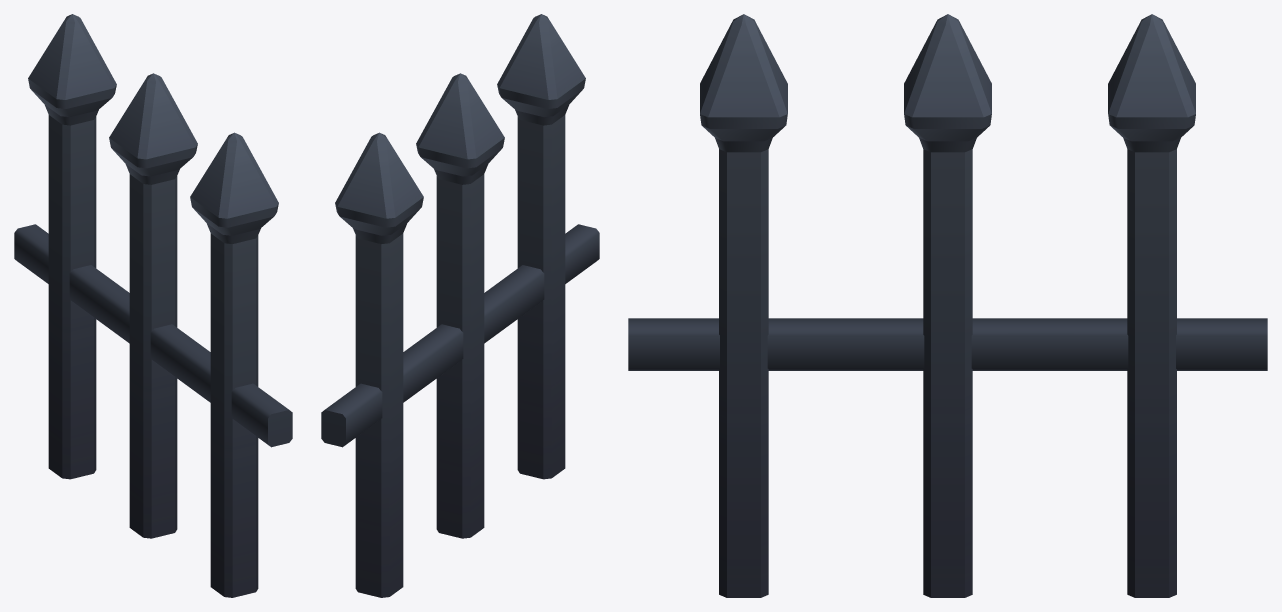
File: Fence_1_2.glb
3 renders of one model, left to right at view 1: azimuth 30°, elevation 25°; view 2: azimuth 150°, elevation 25°; view 3: azimuth 270°, elevation 25°, orthographic. The views are drawn at different scales.
Visible parts, largest first — view 1: Fence_1_2; view 2: Fence_1_2; view 3: Fence_1_2.
Boxes of the visible parts, x1=… form: Fence_1_2: x1=14, y1=14, x2=292, y2=597; Fence_1_2: x1=321, y1=14, x2=599, y2=597; Fence_1_2: x1=628, y1=14, x2=1267, y2=597.
Bounding box in the file's own units: 0.1342 × 0.965 × 0.9745.
1 material, 1 textured.
